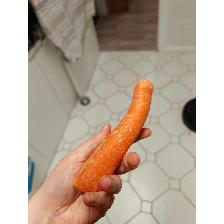Karotte: (74, 79, 154, 201)
